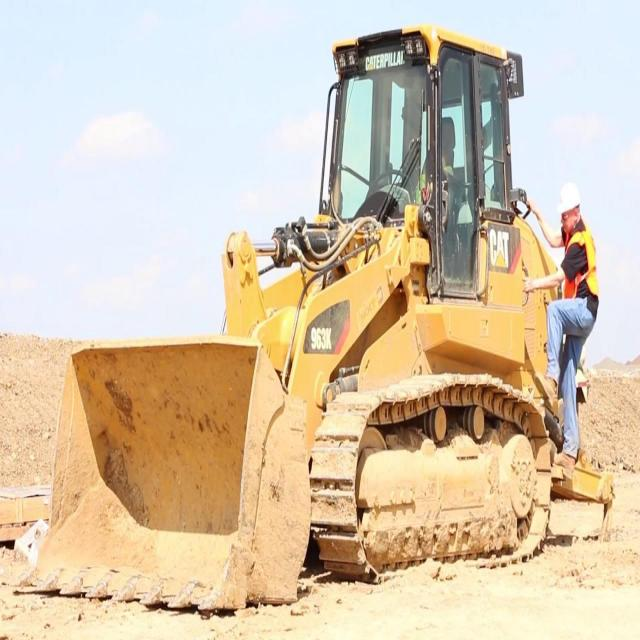Bulldozer: (52, 20, 622, 598)
